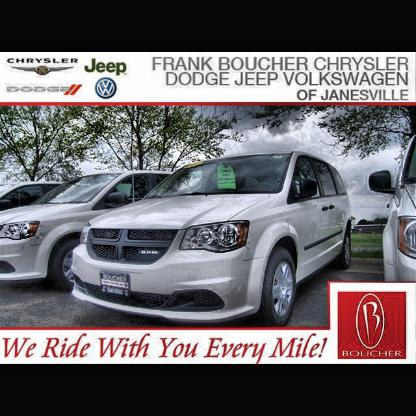Ram C-V Cargo Van Minivan 2012: (69, 149, 355, 324)
